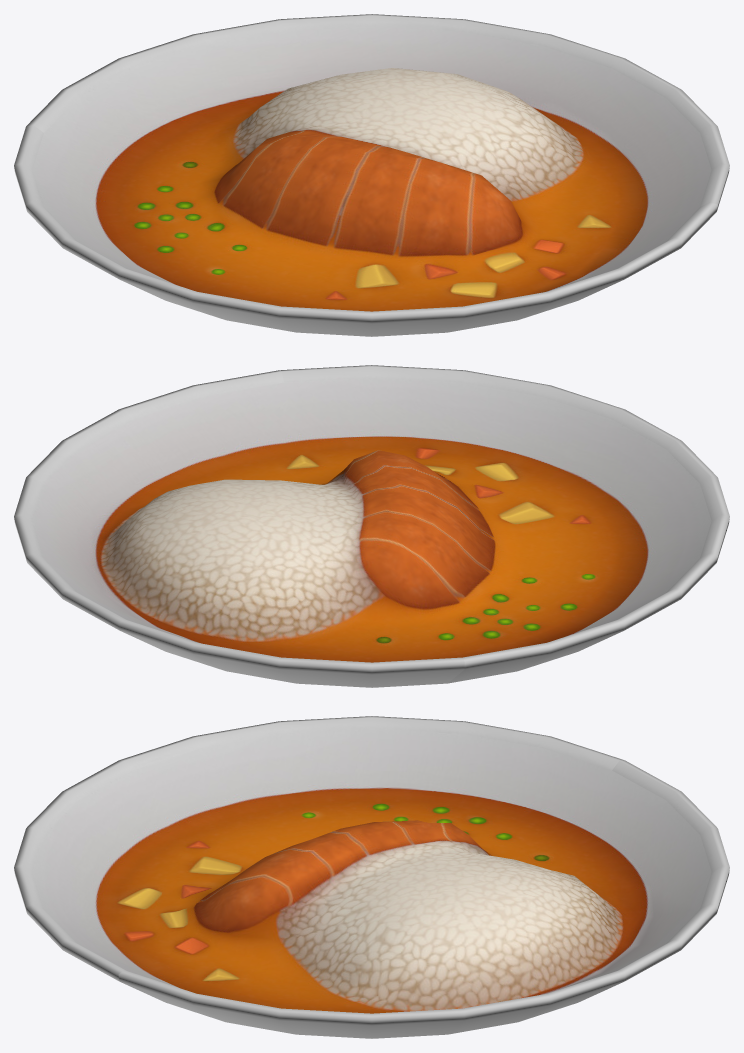
The model's file is Curry & Rice.fbx.
3 renders of one model, top to bottom at view 1: azimuth 30°, elevation 25°; view 2: azimuth 150°, elevation 25°; view 3: azimuth 270°, elevation 25°, orthographic.
Parts seen in each view (by area): view 1: CurryAndRice_1; view 2: CurryAndRice_1; view 3: CurryAndRice_1.
Part boxes in pixels (x1=…): CurryAndRice_1: x1=14, y1=14, x2=729, y2=336; CurryAndRice_1: x1=14, y1=365, x2=729, y2=687; CurryAndRice_1: x1=14, y1=716, x2=729, y2=1038.
Bounding box in the file's own units: 101 × 19.66 × 101.
1 material, 1 textured.
